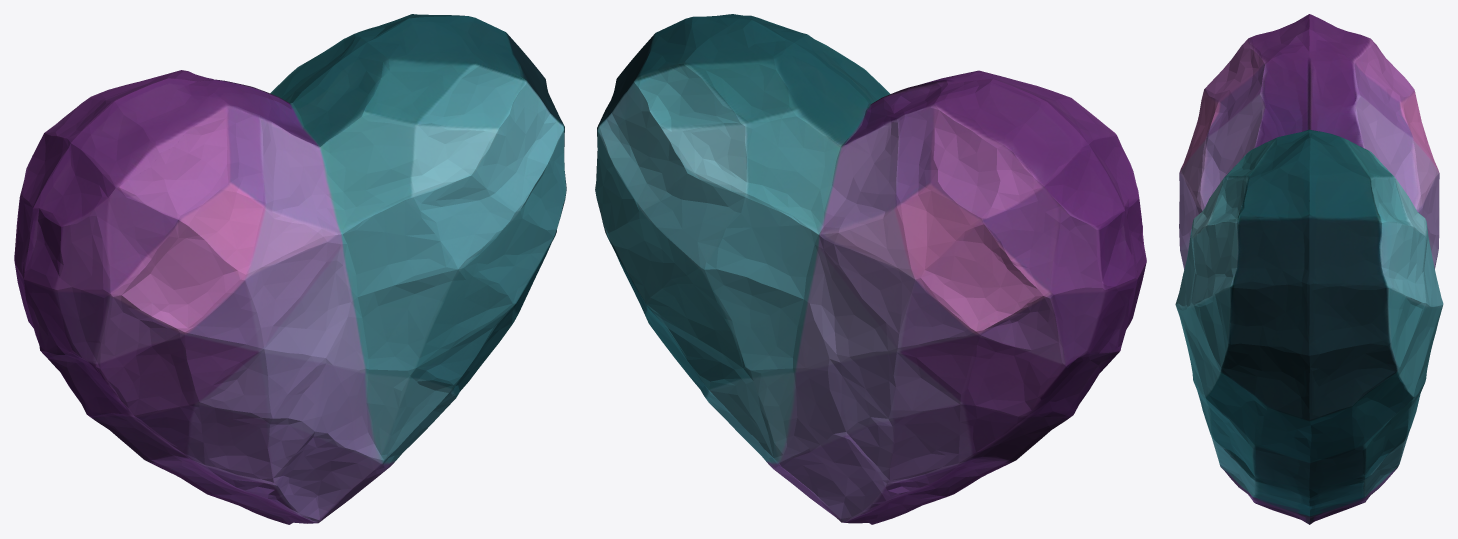
The model's file is heart_purple.fbx.
The picture shows the model from 3 angles, left to right: view 1: azimuth 30°, elevation 25°; view 2: azimuth 150°, elevation 25°; view 3: azimuth 270°, elevation 25°; orthographic projection. The views are drawn at different scales.
Parts seen in each view (by area): view 1: tmpuz1zth01ply; view 2: tmpuz1zth01ply; view 3: tmpuz1zth01ply.
Boxes of the visible parts, x1=… form: tmpuz1zth01ply: x1=14, y1=14, x2=566, y2=524; tmpuz1zth01ply: x1=595, y1=14, x2=1146, y2=524; tmpuz1zth01ply: x1=1175, y1=14, x2=1443, y2=524.
Bounding box in the file's own units: 2 × 1.7 × 0.937.
1 material, 1 textured.
